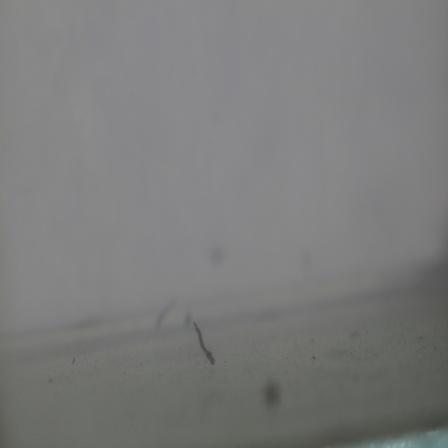Jentik-Nyamuk: (186, 316, 220, 370)
